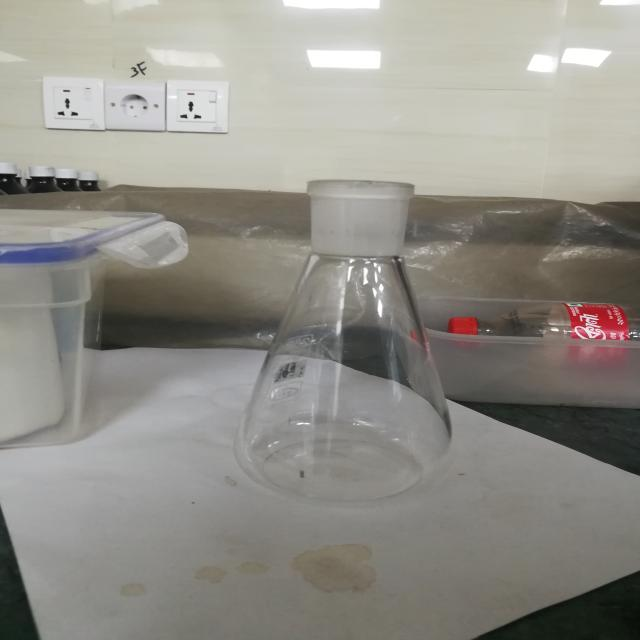Conical_Flask: (235, 121, 480, 512)
